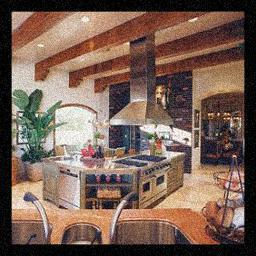Electrodomestico: (59, 168, 81, 211), (142, 167, 167, 204), (44, 164, 60, 204)
Lavaplatos: (17, 189, 192, 244)
Matera: (15, 94, 45, 181)
